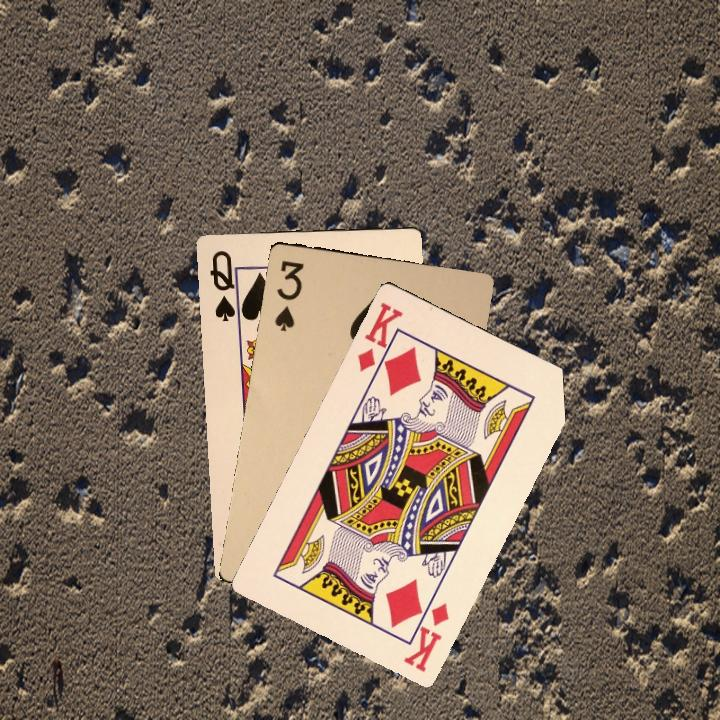3s: (270, 256, 306, 334)
Kd: (399, 587, 452, 675), (353, 297, 406, 379)
Qs: (206, 246, 243, 326)
